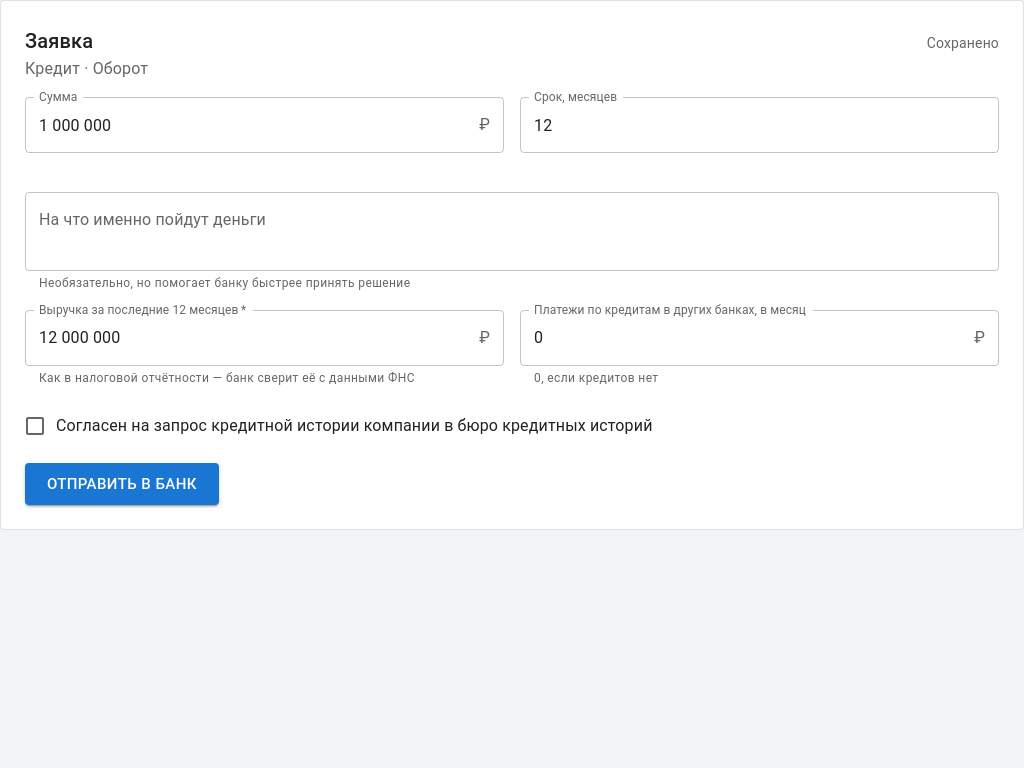
draft revision persistence › does not submit a saved revision with server validation problems
Clear the field labelled "Сумма" at point(248, 125), box [25,97,471,153]
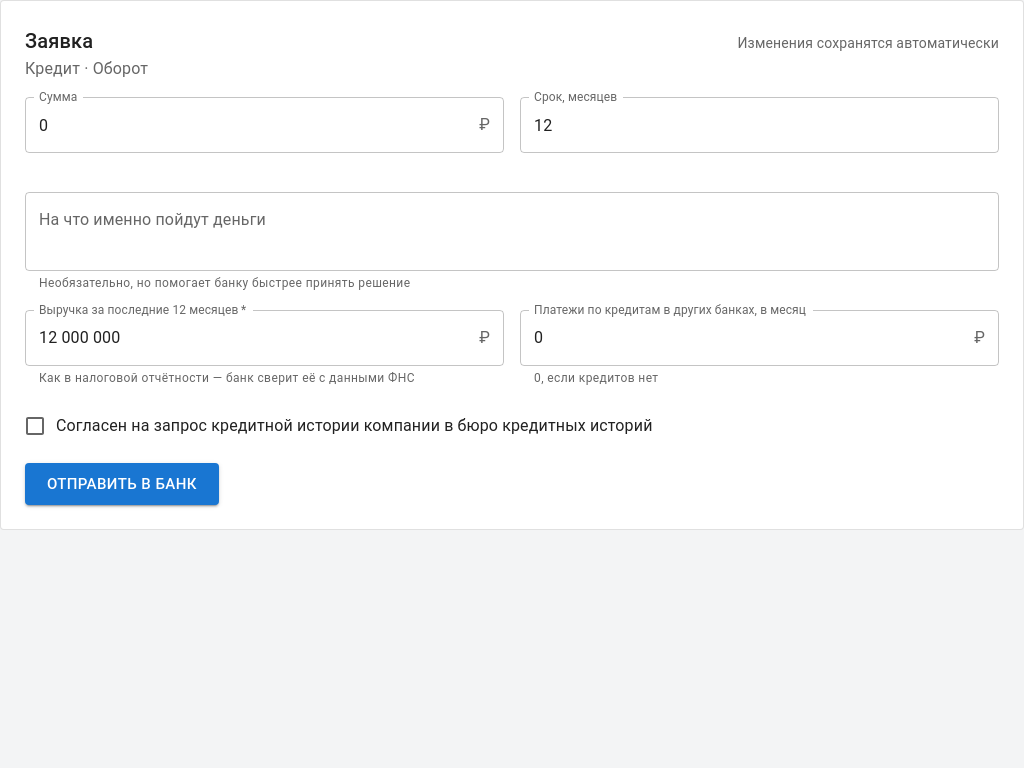
Click the button "Отправить в банк" at point(122, 484), box [25,463,219,505]
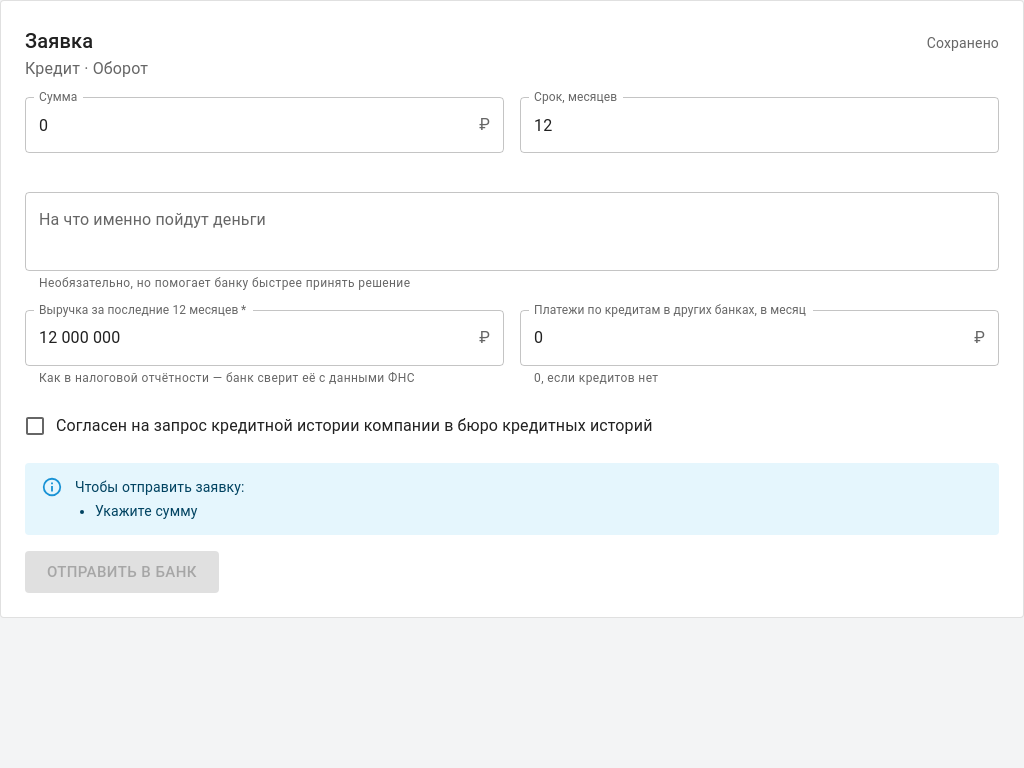
Expected: the field labelled "Сумма" is enabled, [25,97,471,153]
Expected: the list item "Укажите сумму" is shown, [95,503,198,519]
